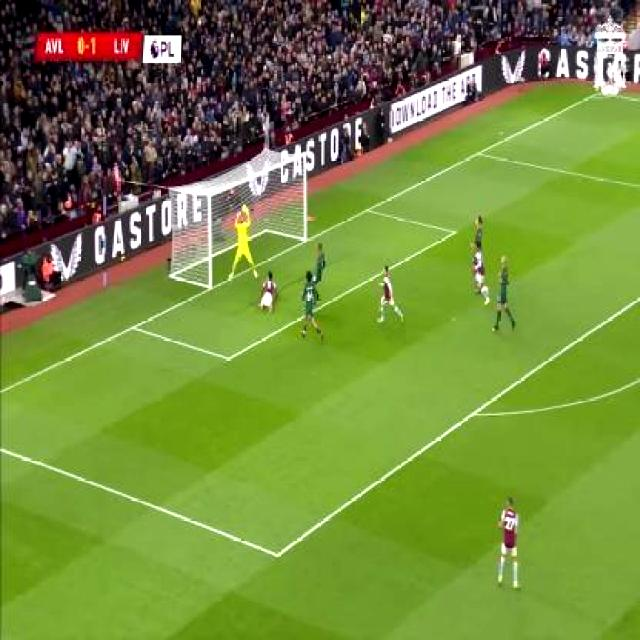bigarea_bottom_inner: (269, 540, 288, 574)
bigarea_top_outter: (472, 143, 486, 165)
bottom_arc_area_intersection: (465, 395, 486, 431)
corner: (592, 88, 603, 104)
smallarea_bottom_inner: (220, 345, 240, 372)
smallarea_bottom_outter: (125, 316, 143, 338)
smallarea_top_inner: (448, 222, 463, 243)
smallarea_top_outter: (362, 202, 376, 220)
